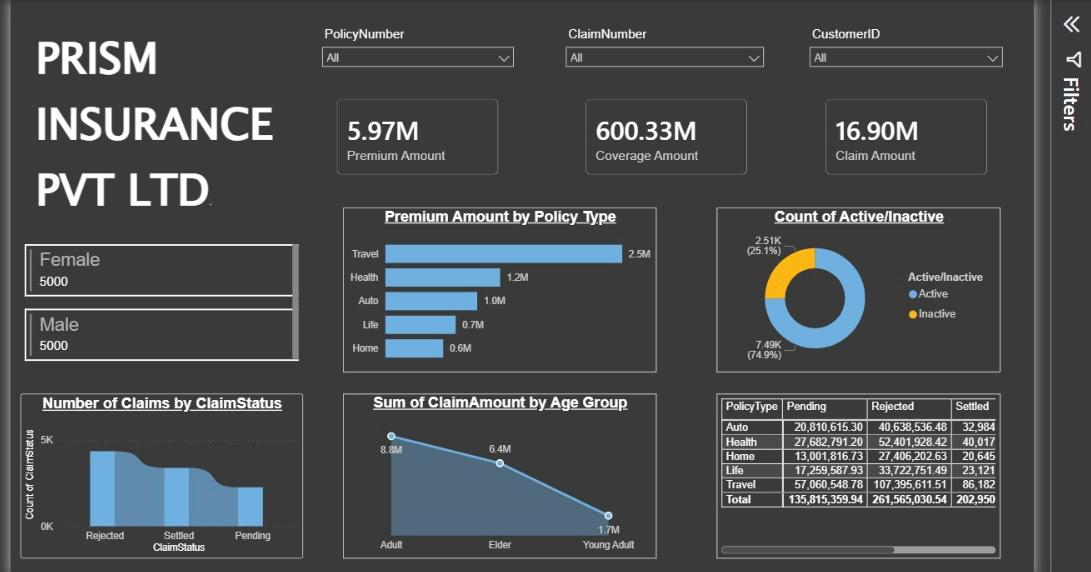

This screenshot's page, from the dashboard's own definition file:
{"tool":"powerbi","page":{"name":"Page 1","canvas":[1280,720],"ordinal":0},"visuals":[{"type":"slicer","fields":{"Values":["InsuranceData.PolicyNumber"]},"box":[379.8,28.1,259.5,78.1],"z":0},{"type":"slicer","fields":{"Values":["InsuranceData.ClaimNumber"]},"box":[684.6,28.1,267.3,78.1],"z":1},{"type":"slicer","fields":{"Values":["InsuranceData.CustomerID"]},"box":[989.4,28.1,261,78.1],"z":2},{"type":"textbox","box":[26.6,28.1,339.2,517.3],"z":3},{"type":"cardVisual","fields":{"Data":["Sum(InsuranceData.PremiumAmount)"]},"box":[390.7,106.3,236,129.7],"z":4},{"type":"cardVisual","fields":{"Data":["Sum(InsuranceData.ClaimAmount)"]},"box":[1001.9,106.3,236,129.7],"z":5},{"type":"cardVisual","fields":{"Data":["Sum(InsuranceData.CoverageAmount)"]},"box":[701.8,106.3,236,129.7],"z":6},{"type":"multiRowCard","fields":{"Values":["InsuranceData.Gender","CountNonNull(InsuranceData.Gender)"]},"box":[12.5,300.1,353.2,165.7],"z":7},{"type":"ribbonChart","title":"Number of Claims by ClaimStatus","fields":{"Category":["InsuranceData.ClaimStatus"],"Y":["CountNonNull(InsuranceData.ClaimStatus)"]},"box":[12.5,492.3,353.2,206.3],"z":8},{"type":"barChart","title":"Premium Amount by Policy Type","fields":{"Category":["InsuranceData.PolicyType"],"Y":["Sum(InsuranceData.PremiumAmount)"]},"box":[415.8,259.5,392.3,206.3],"z":9},{"type":"lineChart","fields":{"Category":["InsuranceData.Age Group"],"Y":["Sum(InsuranceData.ClaimAmount)"]},"box":[415.8,492.3,392.3,206.3],"z":10},{"type":"donutChart","title":"Count of Active/Inactive ","fields":{"Category":["InsuranceData.Active/Inactive"],"Y":["CountNonNull(InsuranceData.Active/Inactive)"]},"box":[883.1,259.5,354.8,206.3],"z":11},{"type":"pivotTable","fields":{"Rows":["InsuranceData.PolicyType"],"Columns":["InsuranceData.ClaimStatus"],"Values":["Sum(InsuranceData.CoverageAmount)"]},"box":[883.1,492.3,354.8,206.3],"z":12}]}

Visuals, with their boxes on the page's 1280x720 design canvas (x1, y1, x2, y2). These are canvas units, not pixel positions in the 1091x572 screenshot, which may show the page scaled, cropped or inside an application window:
slicer - InsuranceData.PolicyNumber: [380, 28, 639, 106]
slicer - InsuranceData.ClaimNumber: [685, 28, 952, 106]
slicer - InsuranceData.CustomerID: [989, 28, 1250, 106]
textbox: [27, 28, 366, 545]
cardVisual - Sum(InsuranceData.PremiumAmount): [391, 106, 627, 236]
cardVisual - Sum(InsuranceData.ClaimAmount): [1002, 106, 1238, 236]
cardVisual - Sum(InsuranceData.CoverageAmount): [702, 106, 938, 236]
multiRowCard - InsuranceData.Gender x CountNonNull(InsuranceData.Gender): [12, 300, 366, 466]
"Number of Claims by ClaimStatus" ribbonChart: [12, 492, 366, 699]
"Premium Amount by Policy Type" barChart: [416, 260, 808, 466]
lineChart - InsuranceData.Age Group x Sum(InsuranceData.ClaimAmount): [416, 492, 808, 699]
"Count of Active/Inactive " donutChart: [883, 260, 1238, 466]
pivotTable - InsuranceData.PolicyType x InsuranceData.ClaimStatus: [883, 492, 1238, 699]
